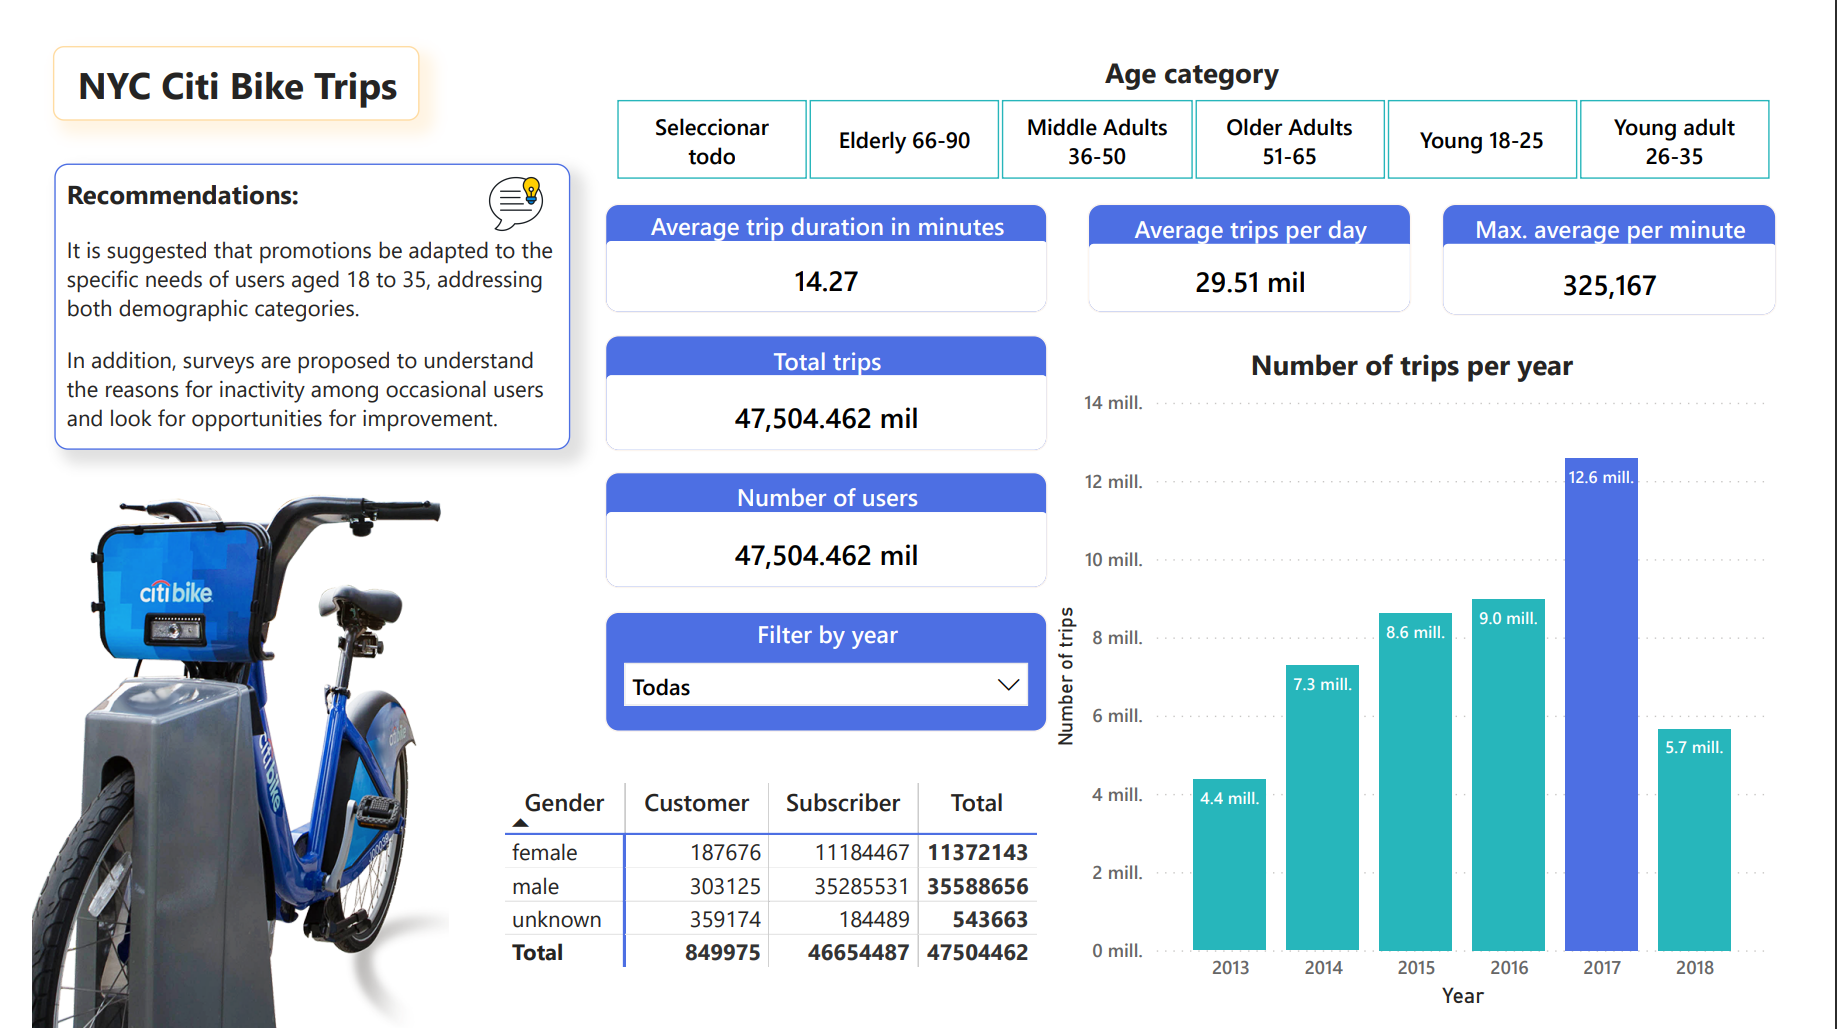

What the dashboard file says about the page in this screenshot:
{"tool":"powerbi","page":{"name":"Dashboard","canvas":[1280,720],"ordinal":0},"visuals":[{"type":"columnChart","title":"Number of trips per year","fields":{"Category":["tabla.year"],"Y":["CountNonNull(tabla.age)"]},"box":[733.5,226.5,527.3,483.4],"z":0},{"type":"cardVisual","title":"Average trip duration in minutes","fields":{"Data":["Avg(tabla.tripduration_minutos)"]},"box":[414.3,123.9,319.3,78.7],"z":1000},{"type":"cardVisual","title":"Average trips per day","fields":{"Data":["Avg(promedio_viajes_por_dia.promedio_numero_de_viajes_por_dia)"]},"box":[762.6,123.9,234.3,78.7],"z":2000},{"type":"cardVisual","title":"Number of users","fields":{"Data":["CountNonNull(tabla.age)"]},"box":[414.3,317.5,319.3,84.1],"z":3000},{"type":"cardVisual","title":"Max.  average per minute","fields":{"Data":["Max(tabla.tripduration_minutos)"]},"box":[1019.5,123.9,241.5,81.4],"z":4000},{"type":"slicer","title":"Age category","fields":{"Values":["tabla.age_category"]},"box":[397.1,15.4,882.9,97.7],"z":5000},{"type":"textbox","box":[15.4,10.3,265,54],"z":6000},{"type":"pivotTable","fields":{"Rows":["tabla.gender"],"Values":["CountNonNull(tabla.customer_plan)"],"Columns":["tabla.usertype"]},"box":[337.4,538.2,396.2,150.2],"z":7000},{"type":"cardVisual","title":"Total trips","fields":{"Data":["CountNonNull(tabla.start_time)"]},"box":[414.3,218.9,319.3,84.1],"z":8000},{"type":"slicer","title":"Filter by year","fields":{"Values":["tabla.year"]},"box":[414.3,418.8,319.3,86.8],"z":9000},{"type":"textbox","box":[15.7,95.2,372.9,207.2],"z":10000},{"type":"image","box":[309.7,95.8,79.6,57.2],"z":11000}]}

Visuals, with their boxes in screenshot pixels (x1, y1, x2, y2), scaled from the page's 1280x720 canvas onto the 1837x1029 screenshot:
"Number of trips per year" columnChart: 1053:324:1809:1015
"Average trip duration in minutes" cardVisual: 595:177:1053:290
"Average trips per day" cardVisual: 1094:177:1431:290
"Number of users" cardVisual: 595:454:1053:574
"Max.  average per minute" cardVisual: 1463:177:1810:293
"Age category" slicer: 570:22:1836:162
textbox: 22:15:402:92
pivotTable - tabla.gender x CountNonNull(tabla.customer_plan): 484:769:1053:984
"Total trips" cardVisual: 595:313:1053:433
"Filter by year" slicer: 595:599:1053:723
textbox: 23:136:558:432
image: 444:137:559:219
